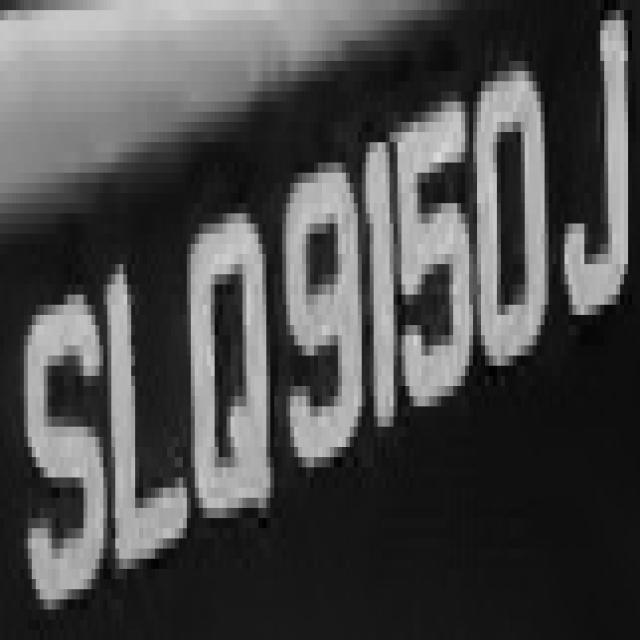0: (469, 51, 557, 427)
1: (358, 111, 401, 426)
5: (394, 81, 477, 427)
9: (270, 132, 370, 508)
J: (557, 31, 632, 366)
L: (111, 224, 203, 589)
Q: (183, 203, 294, 569)
S: (32, 254, 107, 599)
